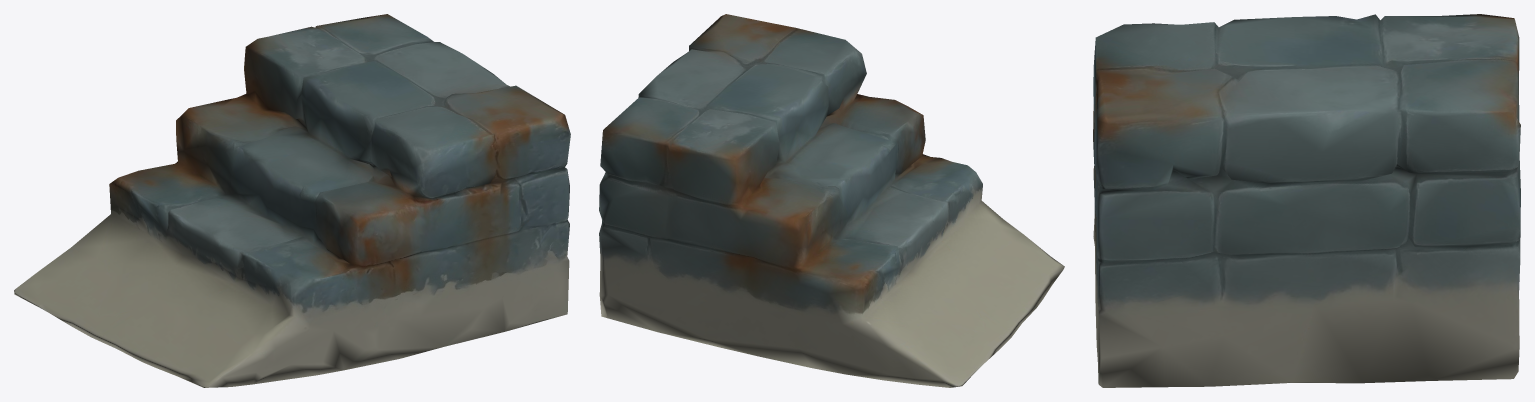
Rendered from silted-stair.glb.
The picture shows the model from 3 angles, left to right: view 1: azimuth 30°, elevation 25°; view 2: azimuth 150°, elevation 25°; view 3: azimuth 270°, elevation 25°; orthographic projection. The views are drawn at different scales.
Parts seen in each view (by area): view 1: tripo_node_06dbf928-f5e0-4430-8b87-c957e93d4ba2; view 2: tripo_node_06dbf928-f5e0-4430-8b87-c957e93d4ba2; view 3: tripo_node_06dbf928-f5e0-4430-8b87-c957e93d4ba2.
Part boxes in pixels (bbox=[...]): tripo_node_06dbf928-f5e0-4430-8b87-c957e93d4ba2: bbox=[14, 14, 570, 387]; tripo_node_06dbf928-f5e0-4430-8b87-c957e93d4ba2: bbox=[599, 14, 1064, 387]; tripo_node_06dbf928-f5e0-4430-8b87-c957e93d4ba2: bbox=[1093, 14, 1520, 387].
Bounding box in the file's own units: 0.9794 × 0.4798 × 0.6701.
1 material, 1 textured.
